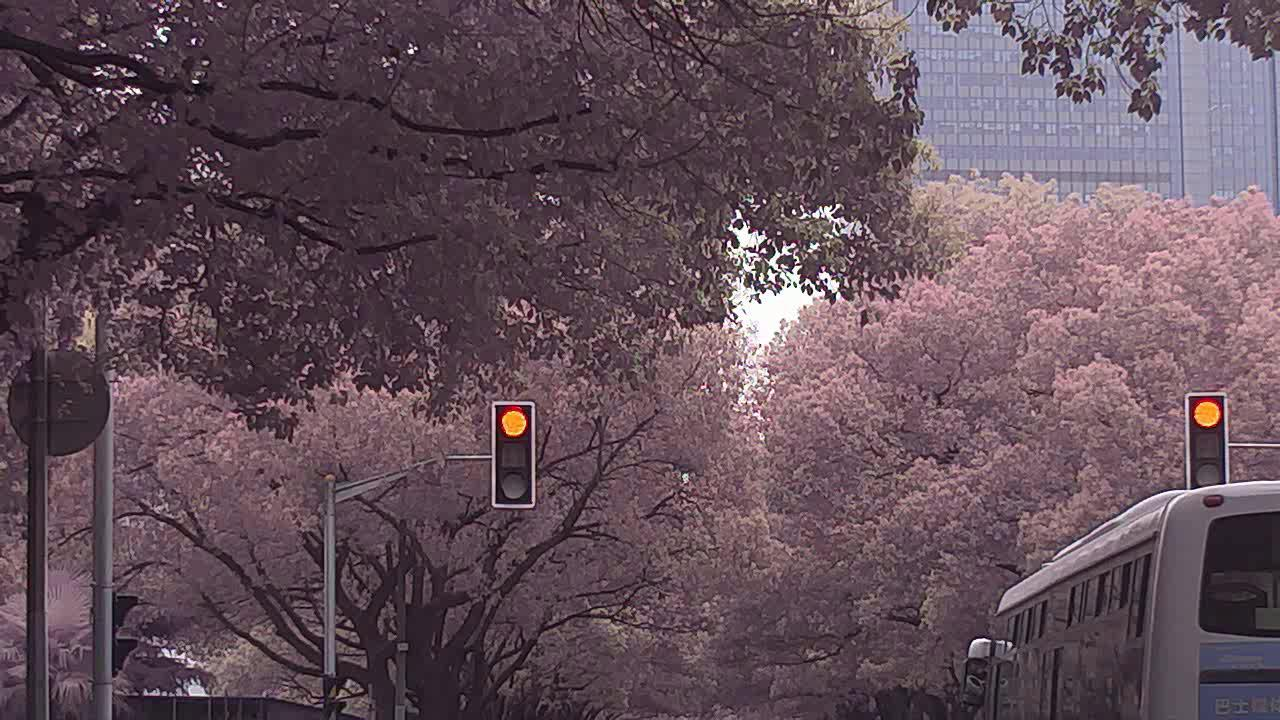traffic_light: (1187, 393, 1234, 487), (494, 405, 534, 502)
